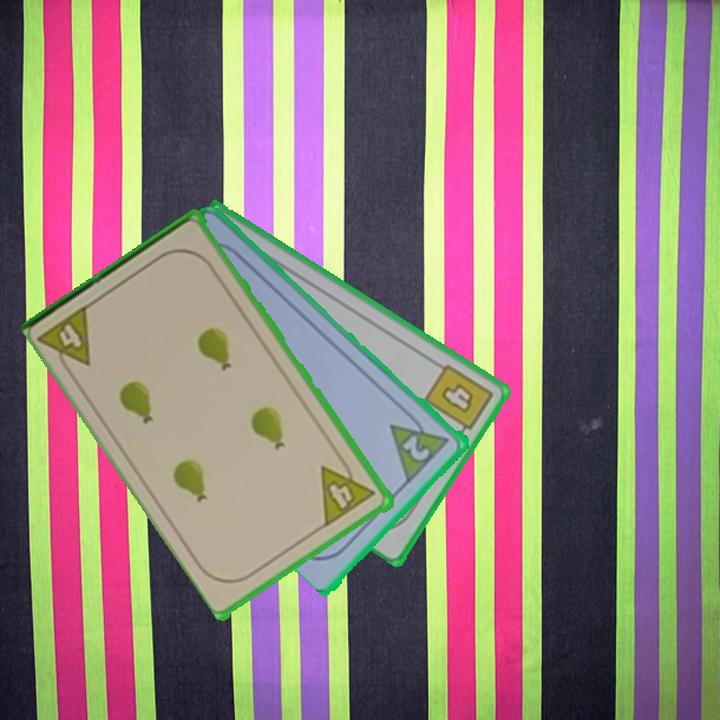2p: (387, 406, 454, 484)
4b: (420, 360, 496, 441)
4p: (317, 452, 379, 529), (36, 300, 95, 380)
